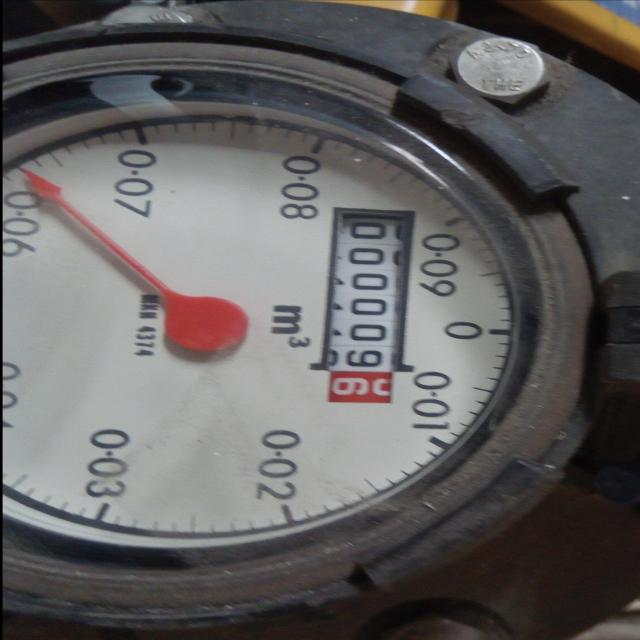gaz_meter: (0, 108, 513, 555)
indication: (314, 212, 409, 405)
